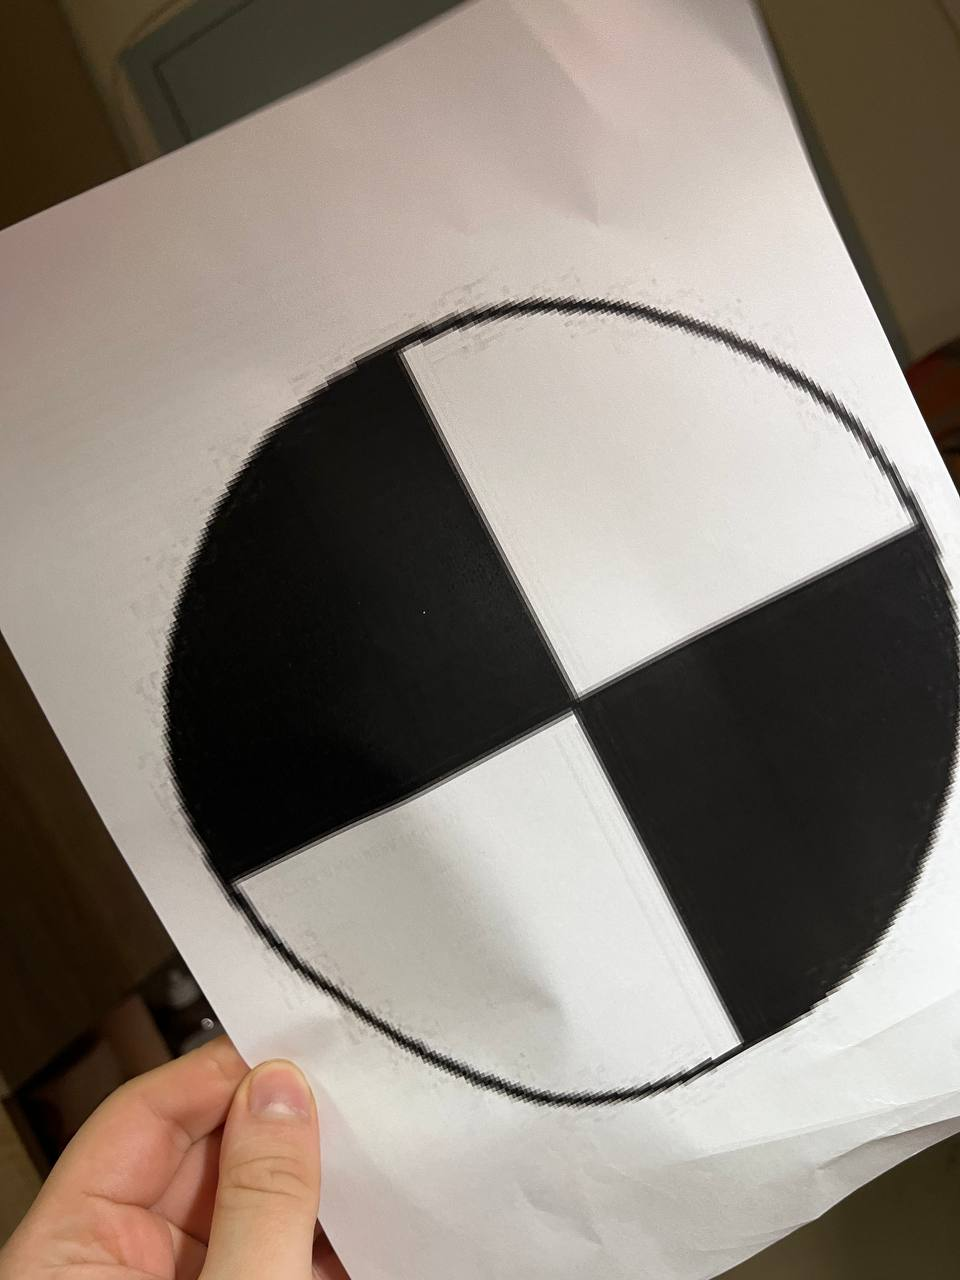pattern: (170, 295, 960, 1106)
